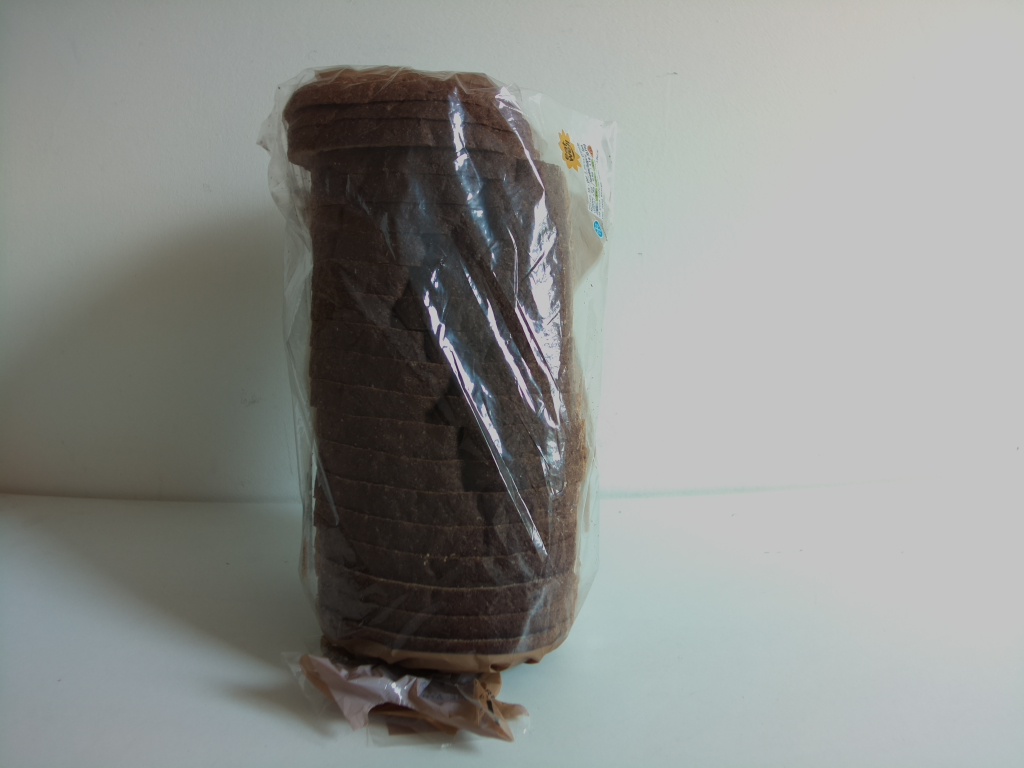bread: (254, 59, 615, 745)
